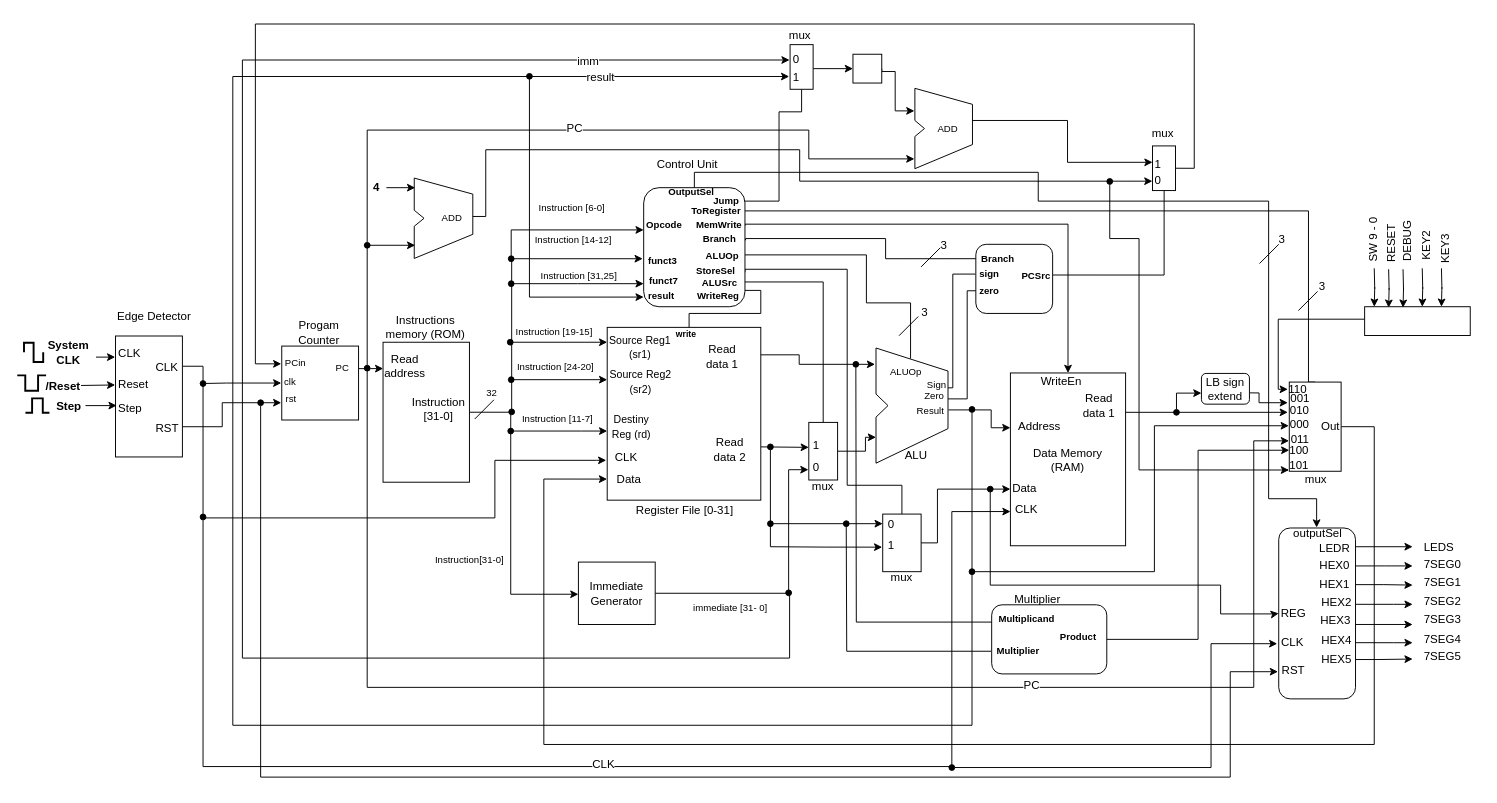
Image size: 1497x803. Some labels were removed from this diagram. Here are the shapes that lost their labels. From the top down, the box of each, then its label:
(852, 53, 882, 83): shift left 1
(1364, 306, 1470, 336): Input Register
